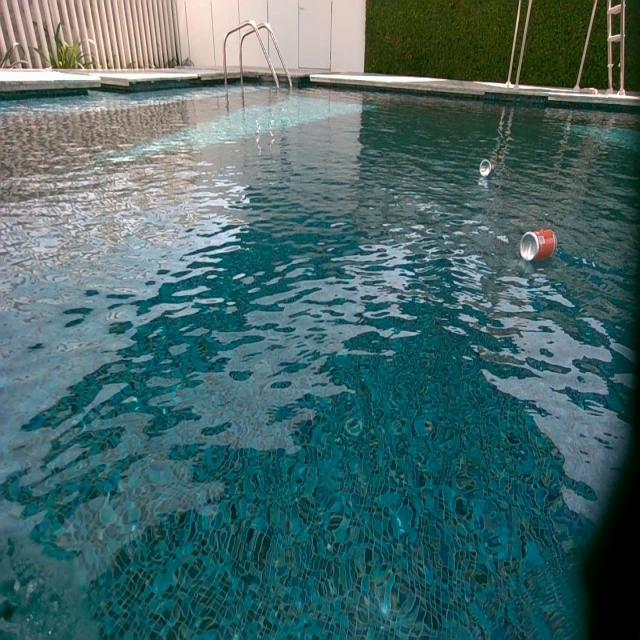Cans: (520, 230, 557, 263), (480, 160, 494, 179)
